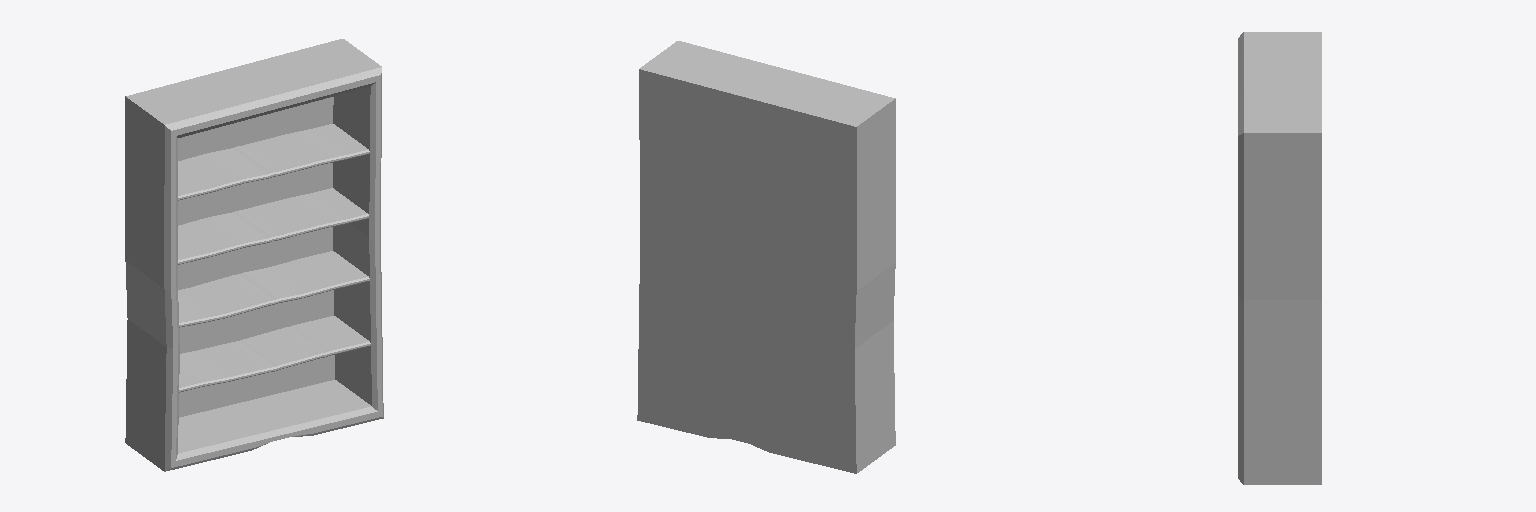
The model's file is SHELF.obj.
The picture shows the model from 3 angles: view 1: azimuth 30°, elevation 25°; view 2: azimuth 150°, elevation 25°; view 3: azimuth 270°, elevation 25°; orthographic projection.
Parts seen in each view (by area): view 1: SHELF; view 2: SHELF; view 3: SHELF.
Part boxes in pixels (x1,y1,x2,y2): SHELF: (125,39,383,471); SHELF: (637,41,895,473); SHELF: (1238,32,1321,484).
Size of the model in its own units: 94.85 by 145 by 31.41.